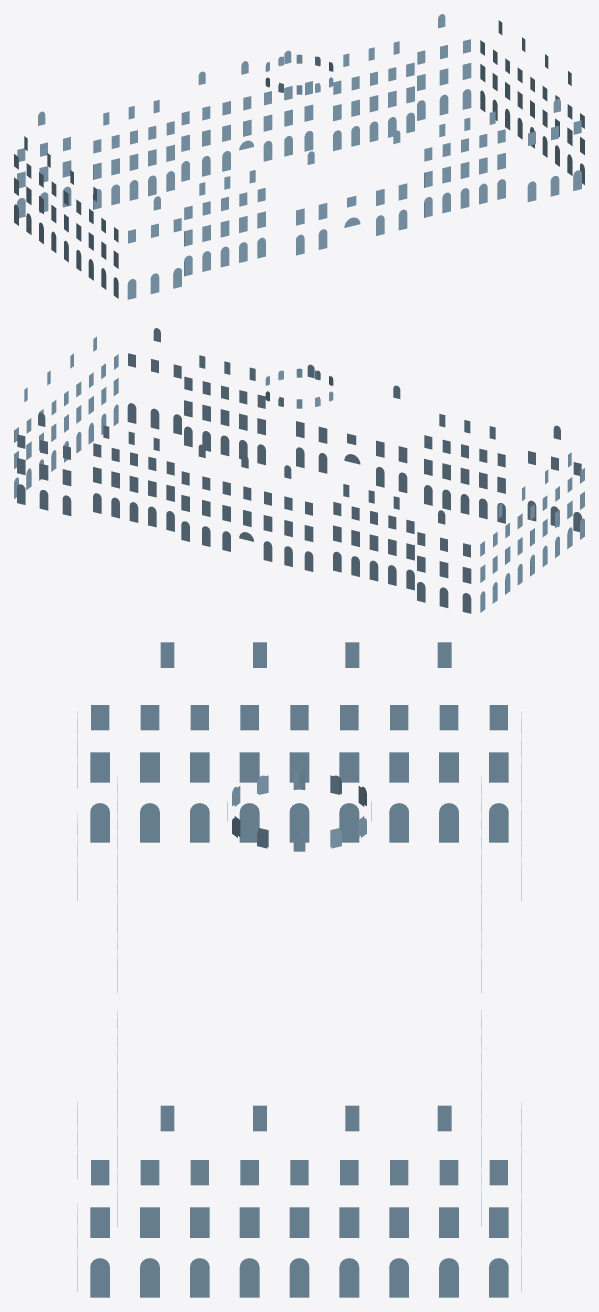
File: SM_ObeliskBoys_Main_Glass.fbx
3 renders of one model, top to bottom at view 1: azimuth 30°, elevation 25°; view 2: azimuth 150°, elevation 25°; view 3: azimuth 270°, elevation 25°, orthographic. The views are drawn at different scales.
Parts seen in each view (by area): view 1: SM_ObeliskBoys_Main_Glass; view 2: SM_ObeliskBoys_Main_Glass; view 3: SM_ObeliskBoys_Main_Glass.
Boxes of the visible parts, bbox=[...] form: SM_ObeliskBoys_Main_Glass: bbox=[14, 14, 584, 299]; SM_ObeliskBoys_Main_Glass: bbox=[14, 328, 584, 613]; SM_ObeliskBoys_Main_Glass: bbox=[77, 642, 521, 1297].
Size of the model in its own units: 83.06 by 22.35 by 35.06.
